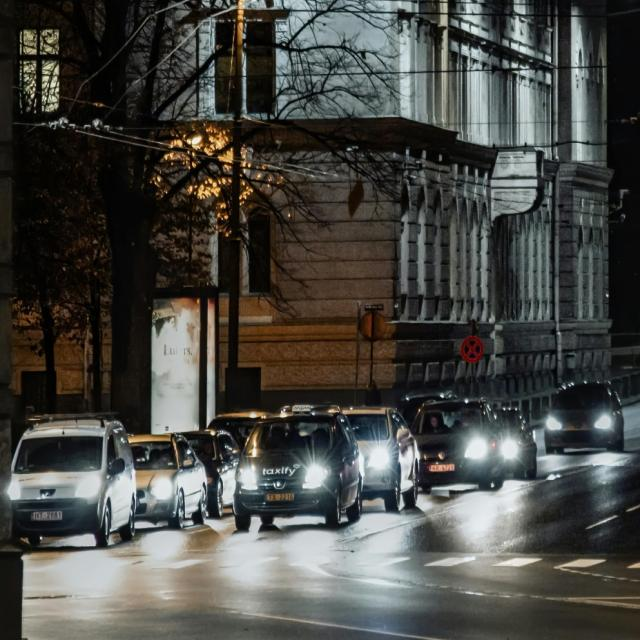car: (9, 413, 136, 546), (233, 409, 362, 530), (415, 396, 504, 491), (127, 433, 208, 530), (345, 406, 419, 511), (542, 382, 626, 454), (189, 429, 241, 519), (495, 406, 538, 483)
